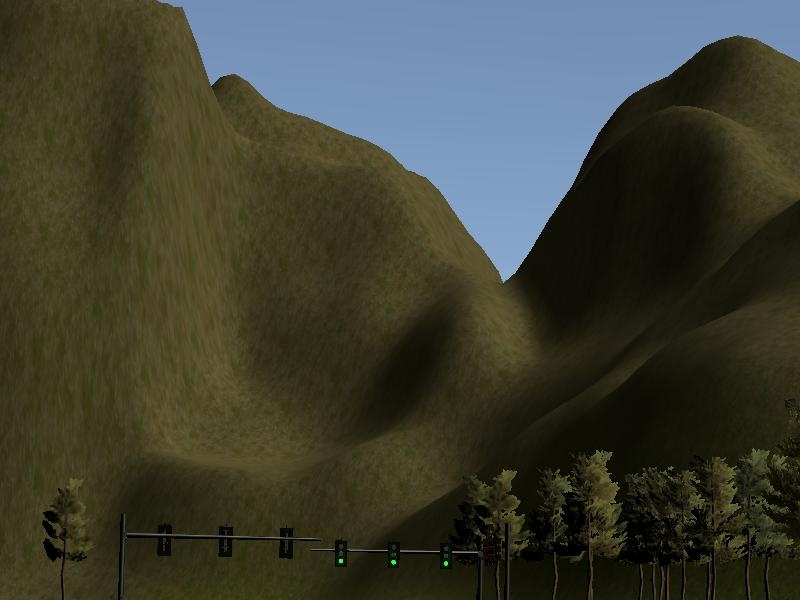green: (385, 540, 401, 570), (437, 542, 453, 571), (333, 540, 347, 566)
